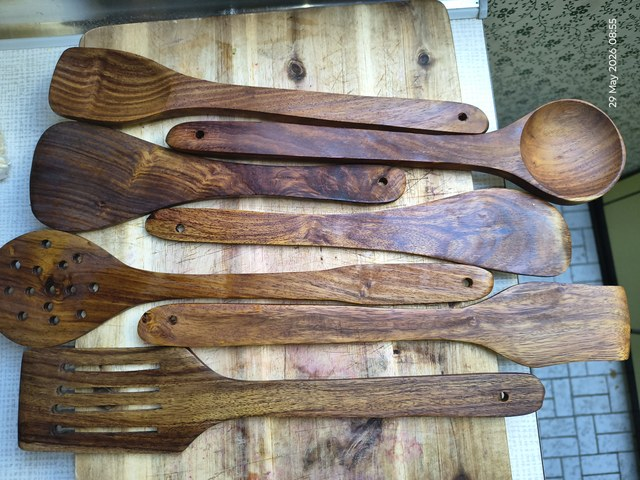Gala Floor Wiper: (32, 24, 608, 456)
